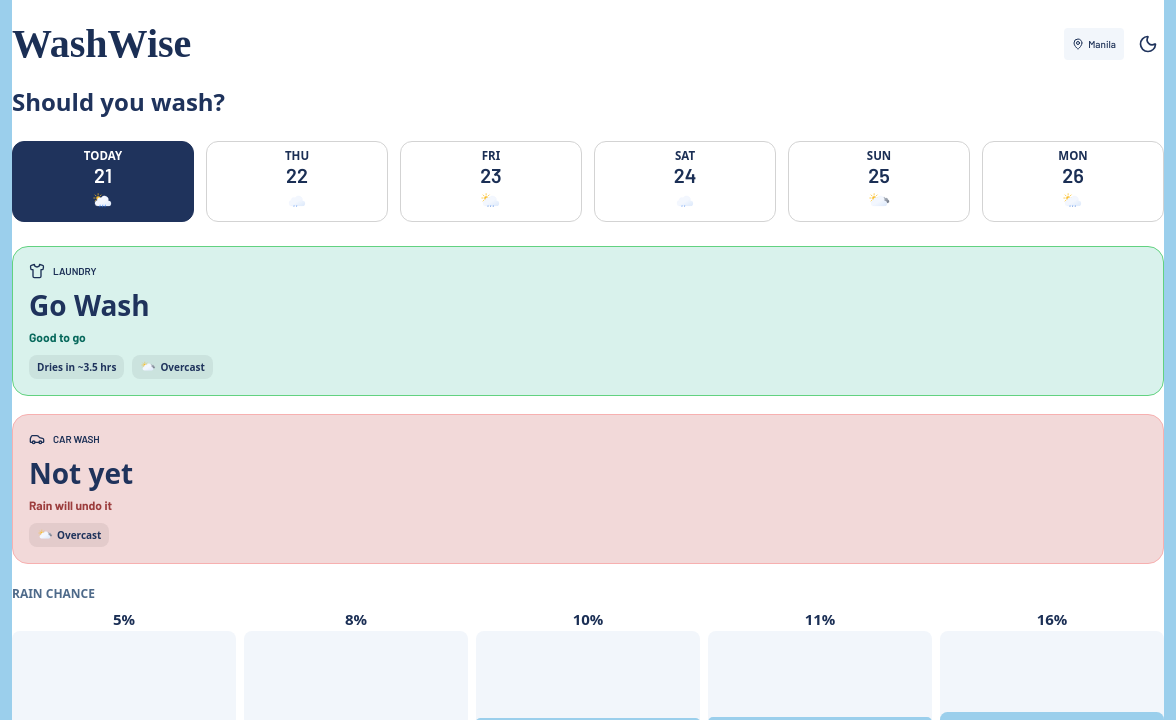
Test: HomePage › choosing another day updates the cards and the chart together
Click the button "SAT 24": [685, 182] box [594, 141, 776, 222]
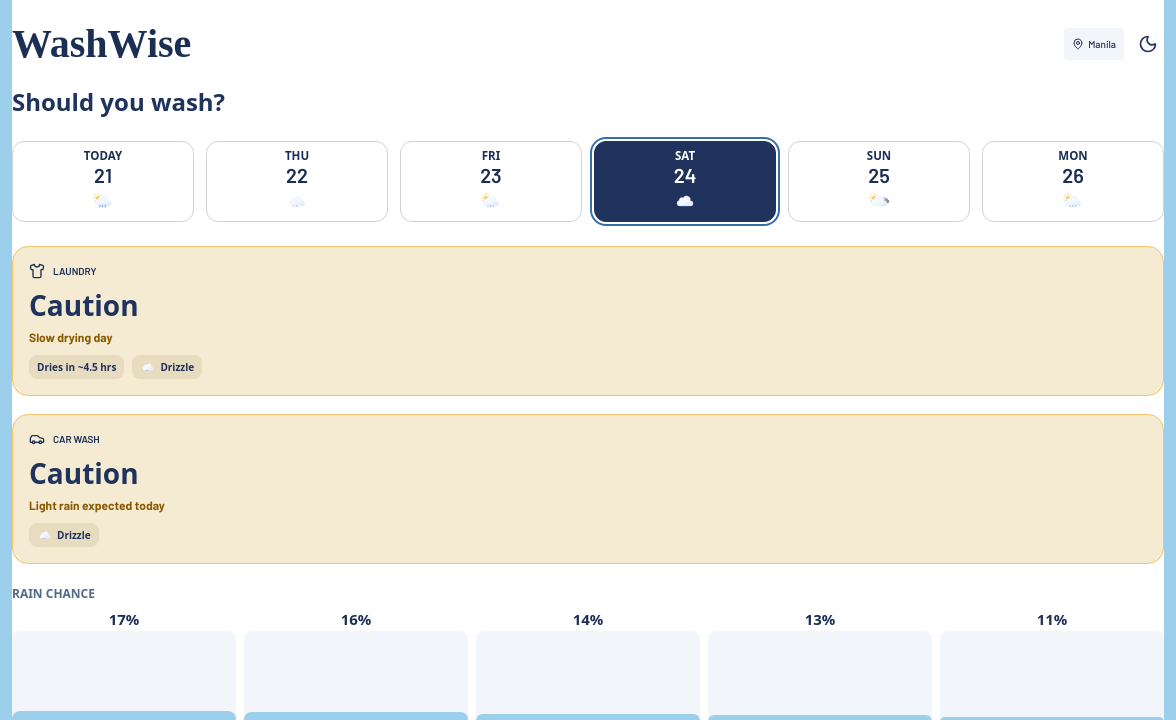
Result: the element "Laundry" shows "Slow drying day" at [29, 330, 112, 344]
Result: the element "Car wash" shows "Light rain expected today" at [29, 498, 165, 512]
